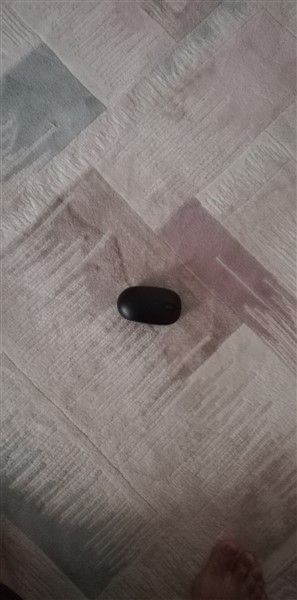mouse: (116, 283, 187, 332)
